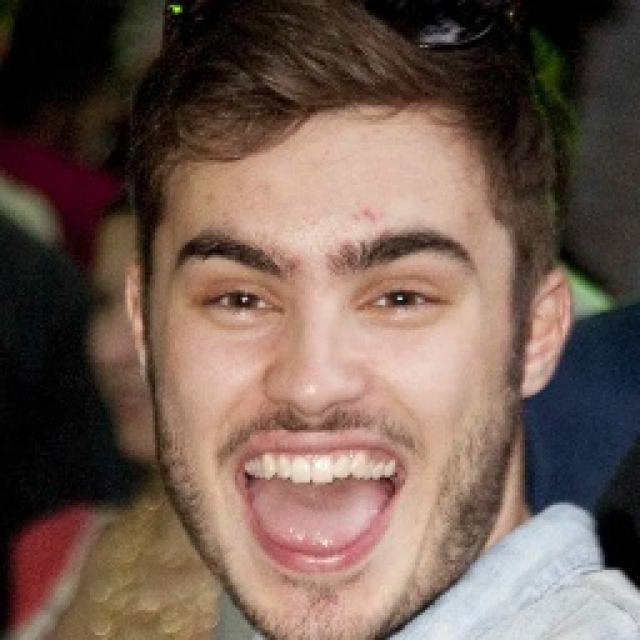earlobe: (518, 358, 552, 401)
eye: (354, 282, 444, 314), (200, 288, 281, 316)
nose: (264, 397, 377, 428)
wholeear: (518, 267, 574, 401), (125, 263, 146, 378)
